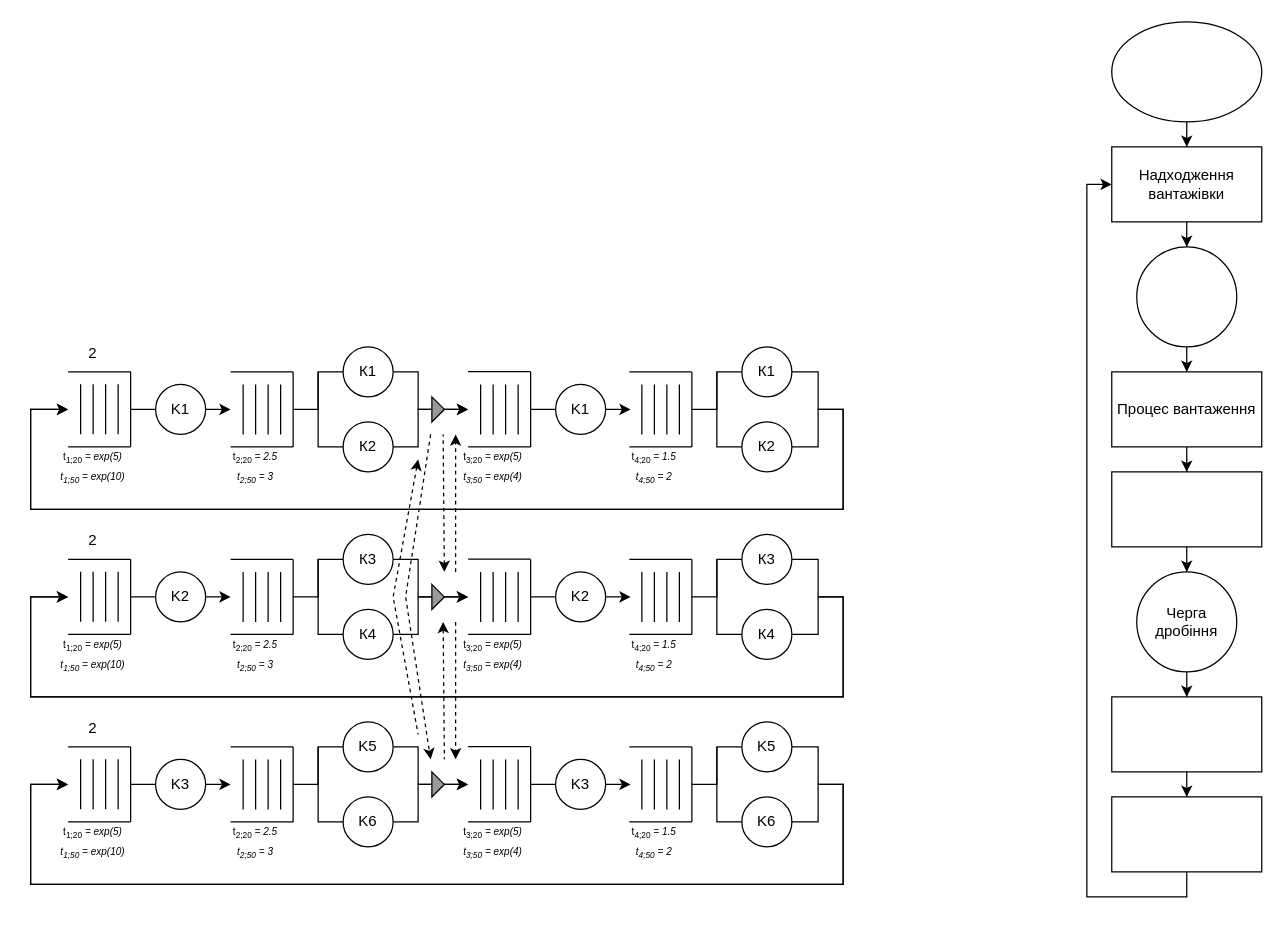
Image size: 1284x929. Some labels were removed from this diagram. The box of each missing label's shape, as (x1, y1, x2, y2) in pixels:
Повернення: (1110, 796, 1262, 872)
Початок: (1110, 21, 1262, 122)
Процес дробіння: (1110, 696, 1262, 772)
Проїзд до дробівки: (1110, 471, 1262, 547)
Черга вантаження: (1136, 246, 1237, 347)
